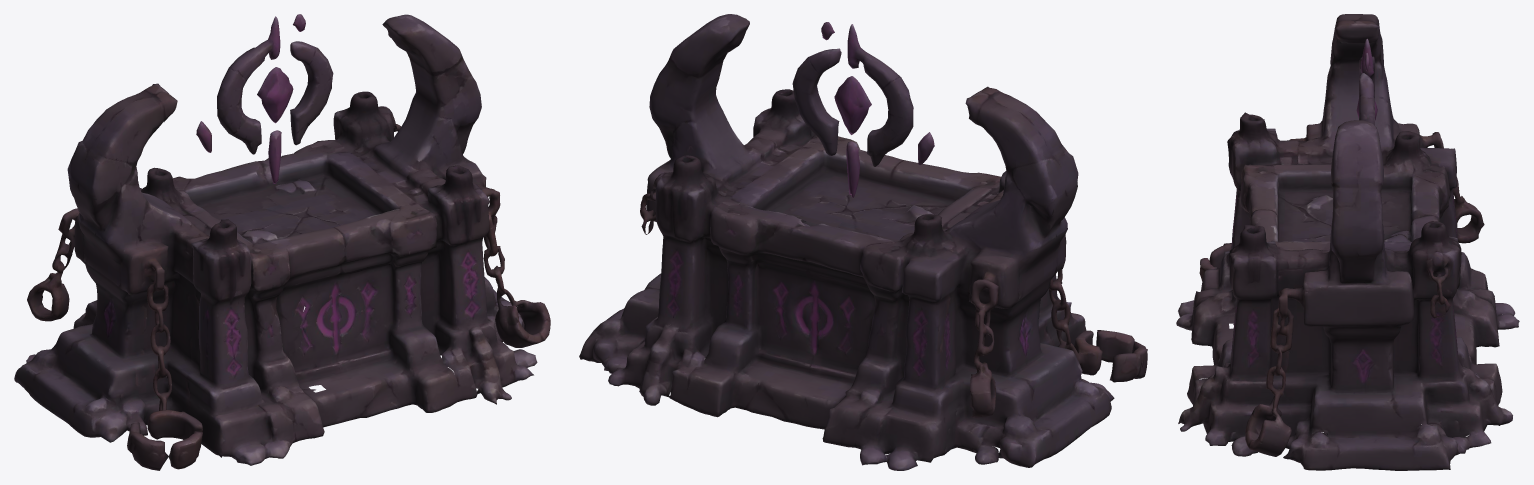
Rendered from curse_altar.glb.
3 renders of one model, left to right at view 1: azimuth 30°, elevation 25°; view 2: azimuth 150°, elevation 25°; view 3: azimuth 270°, elevation 25°, orthographic. The views are drawn at different scales.
Visible parts, largest first — view 1: tripo_node_f33cfc45; view 2: tripo_node_f33cfc45; view 3: tripo_node_f33cfc45.
Boxes of the visible parts, x1,y1,x2,y2 form: tripo_node_f33cfc45: [14, 14, 550, 470]; tripo_node_f33cfc45: [579, 14, 1147, 470]; tripo_node_f33cfc45: [1176, 14, 1519, 470].
Size of the model in its own units: 99.94 by 75.06 by 70.71.
Materials: 1 (1 with a texture image).
